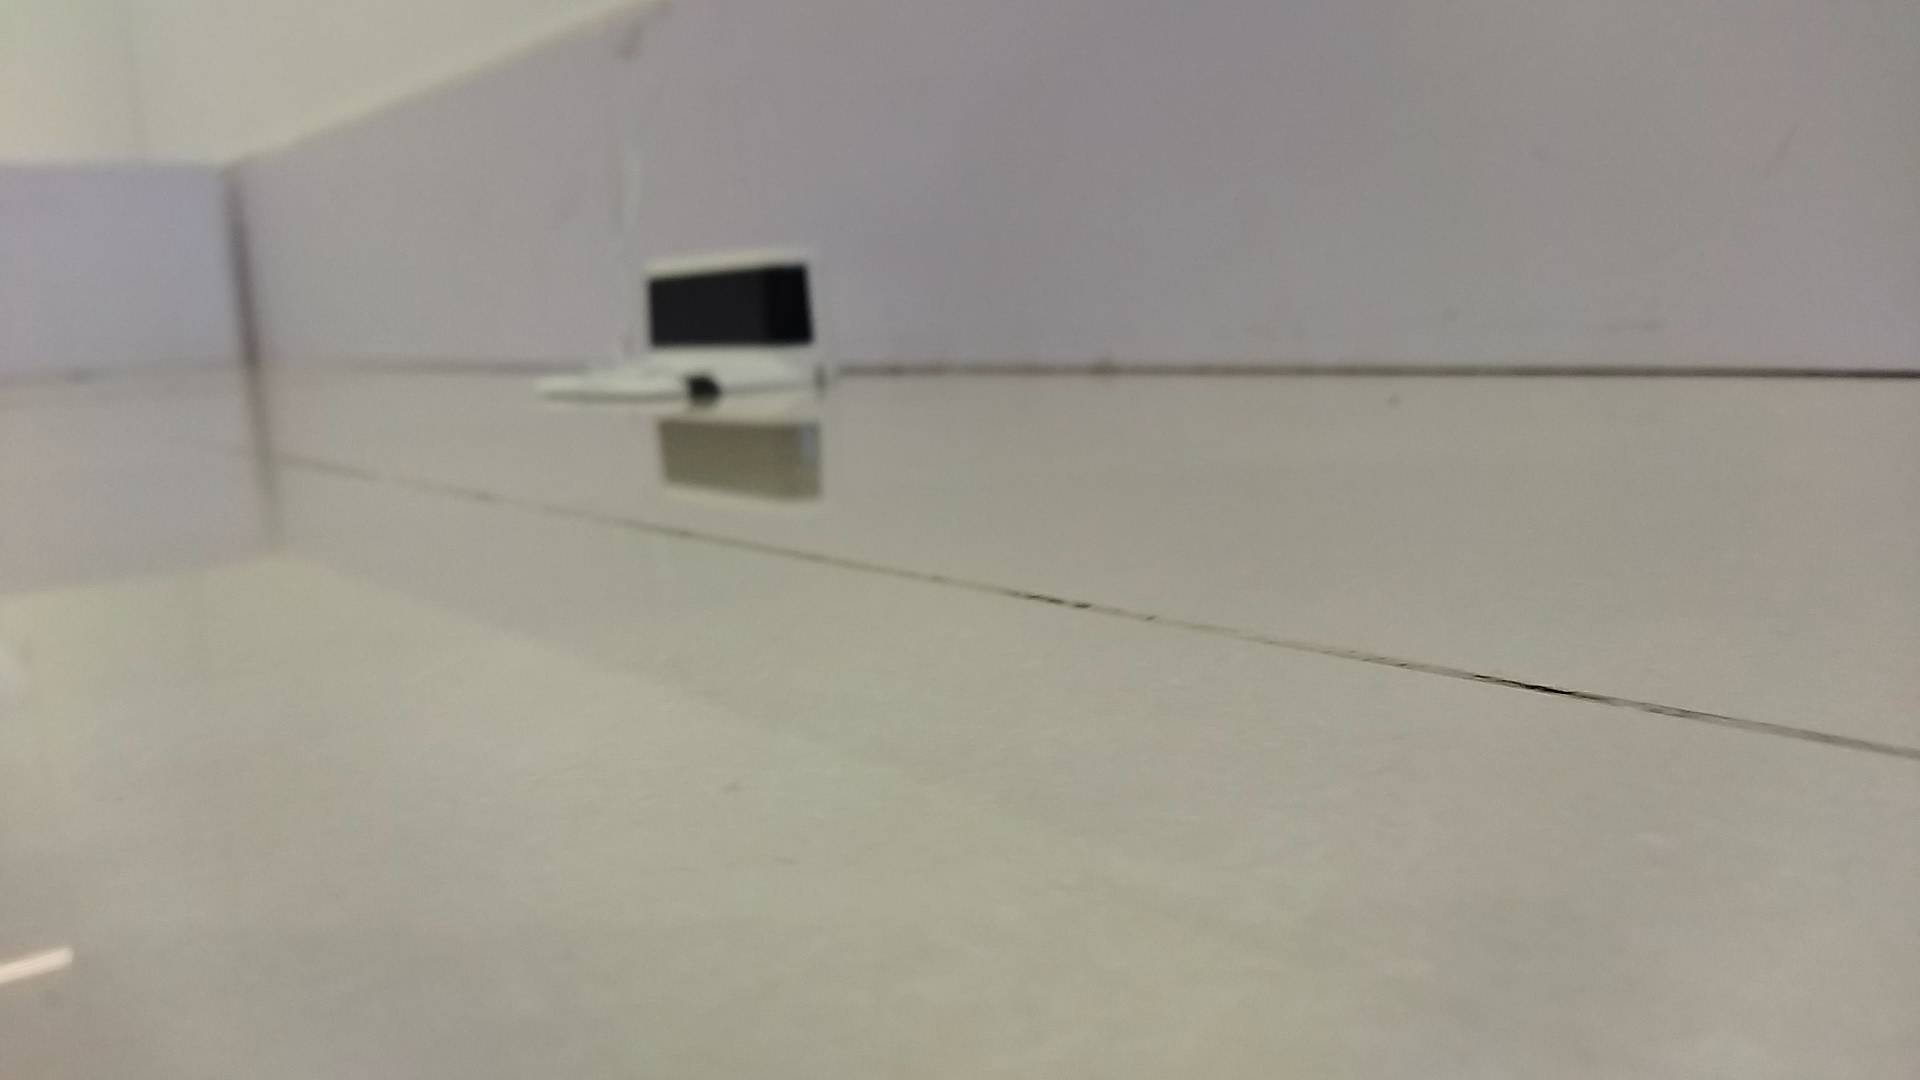recharge seat: (537, 248, 837, 400)
